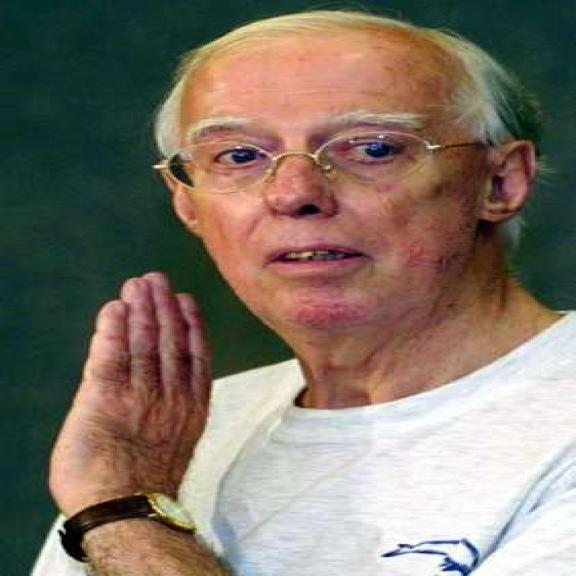face: (154, 75, 544, 337)
